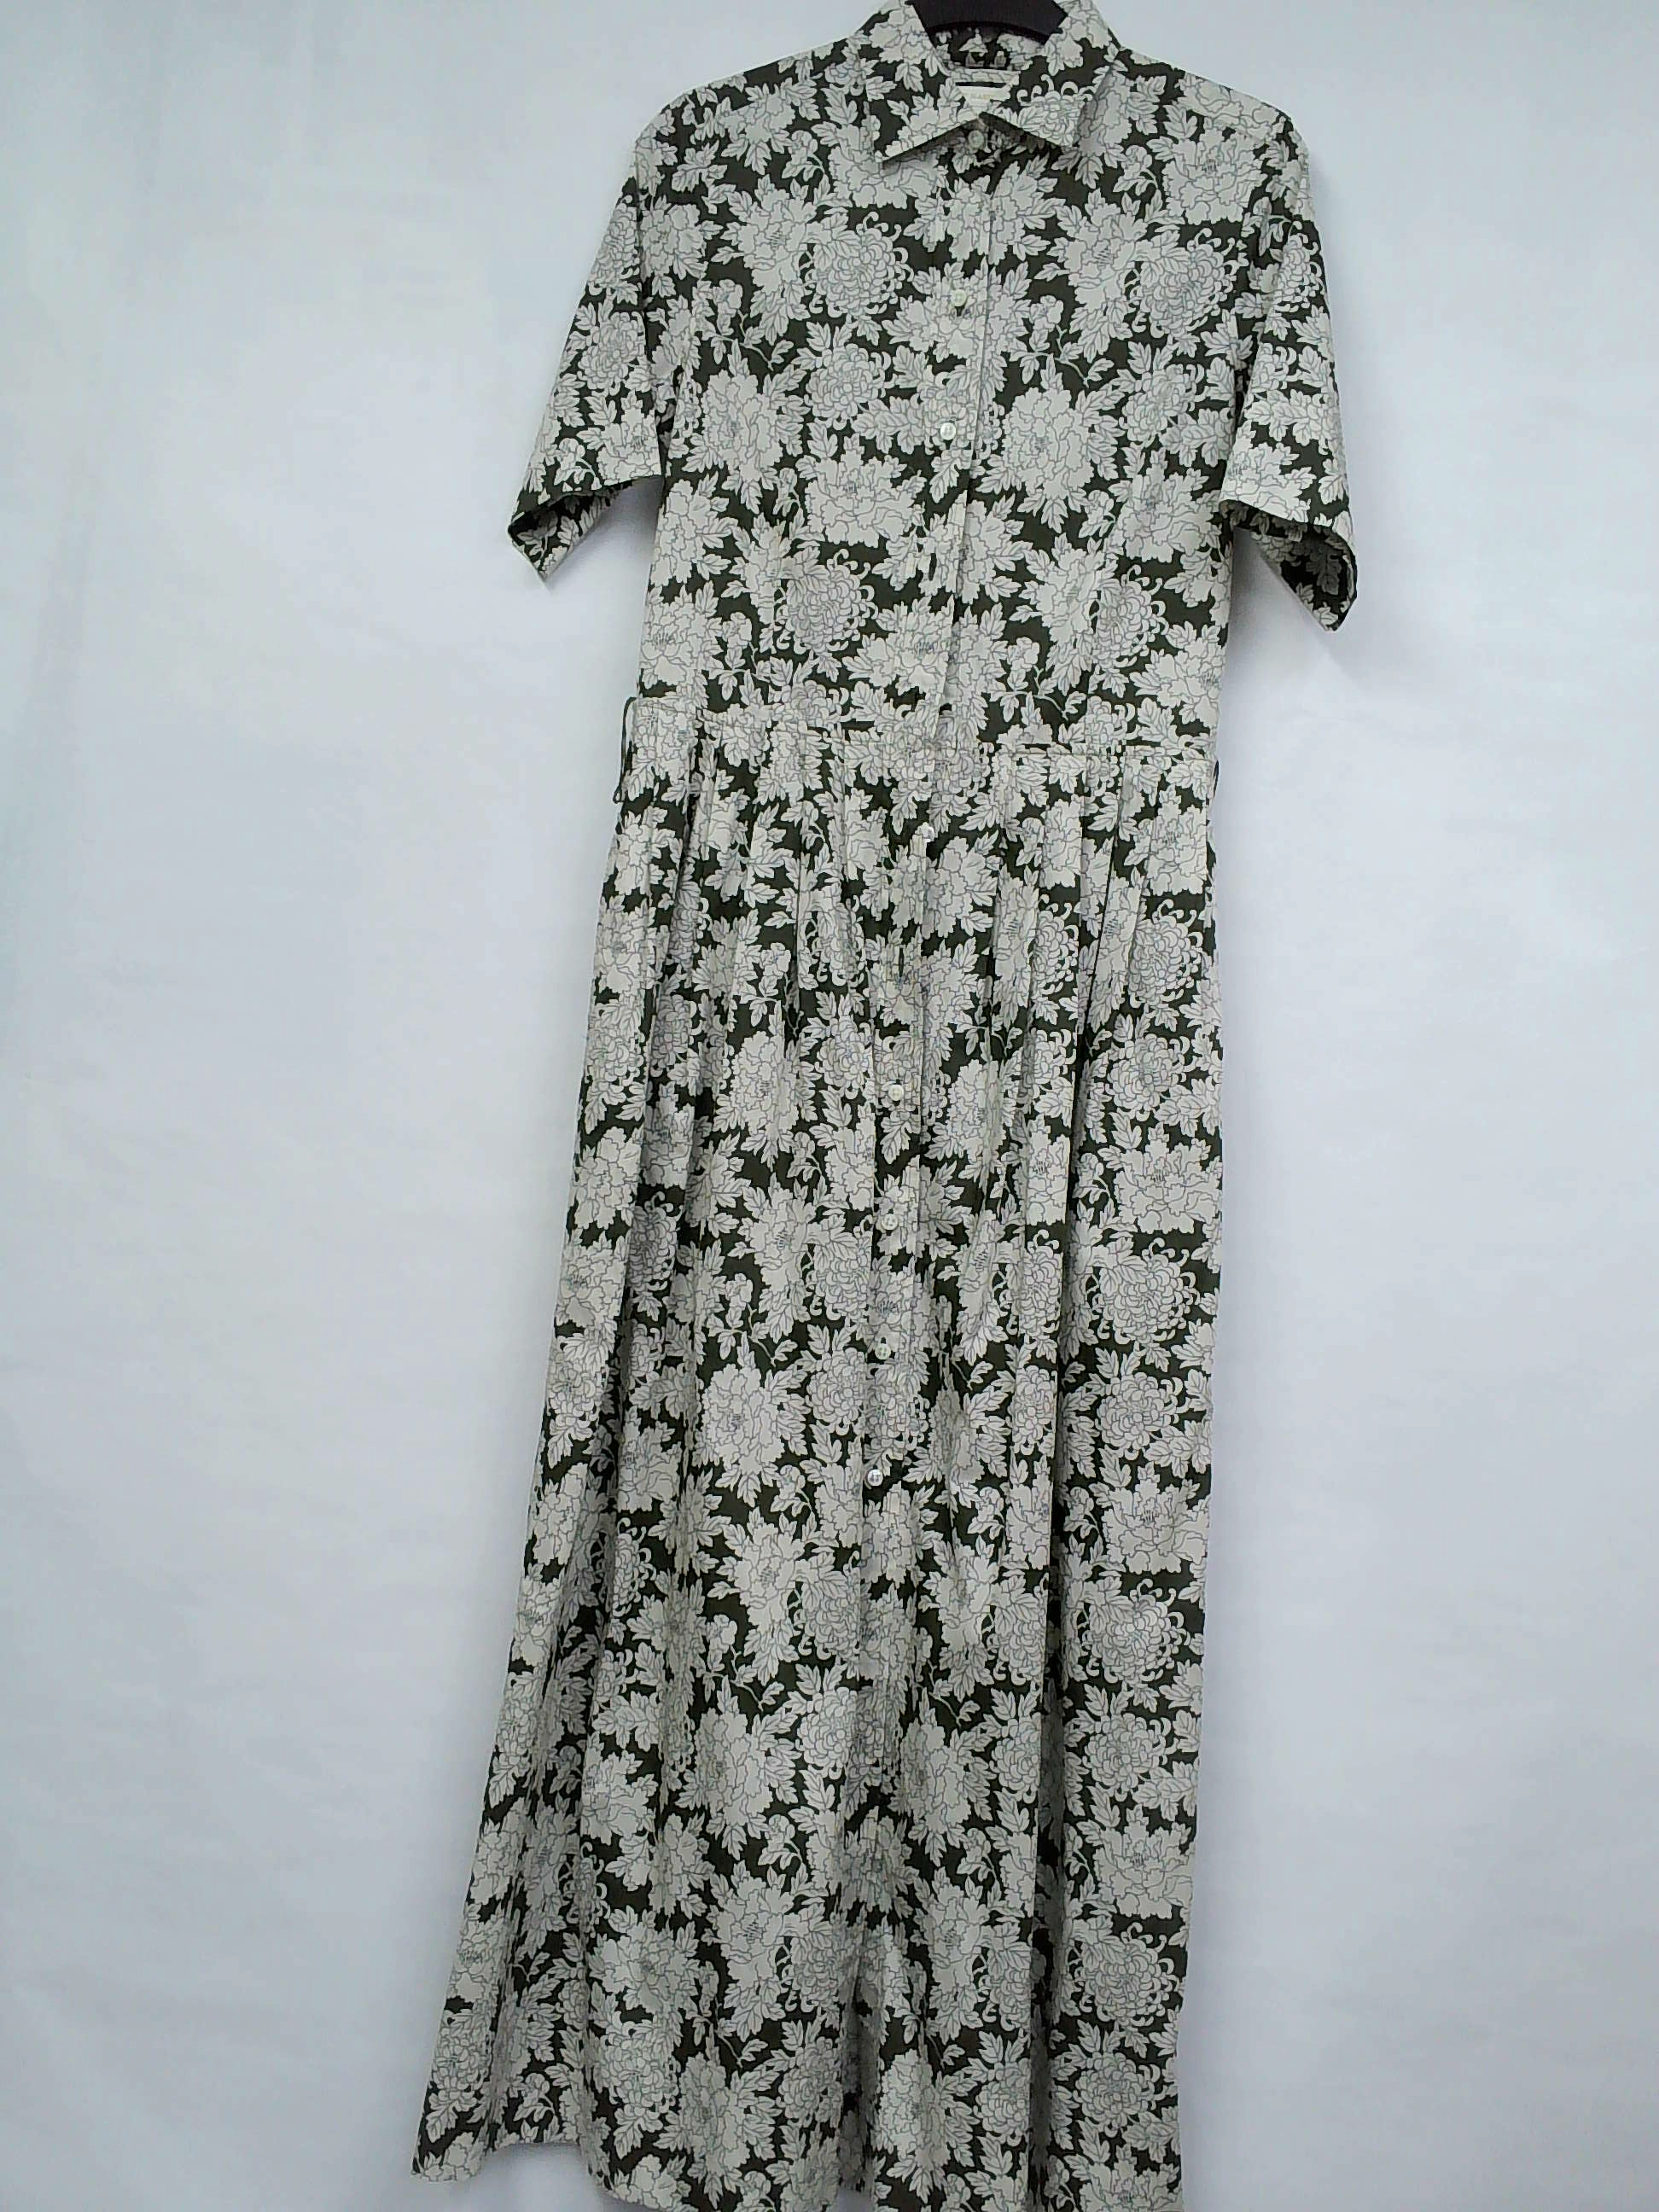seam: (1060, 711, 1194, 792)
